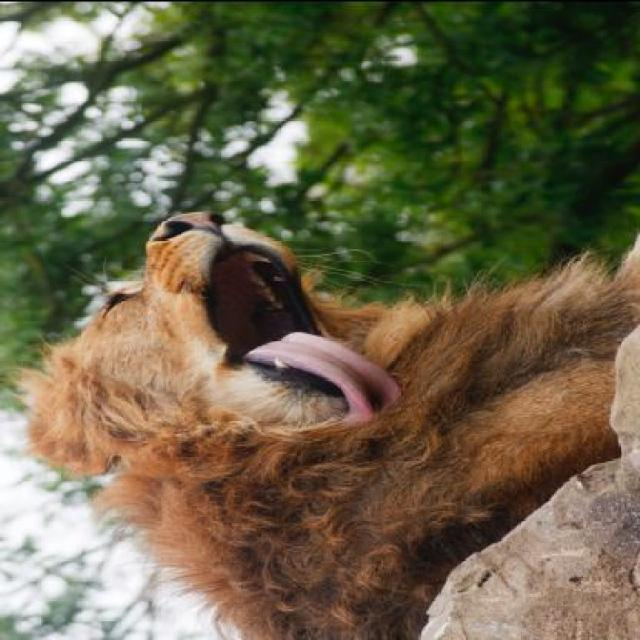Lion: (7, 206, 638, 639)
